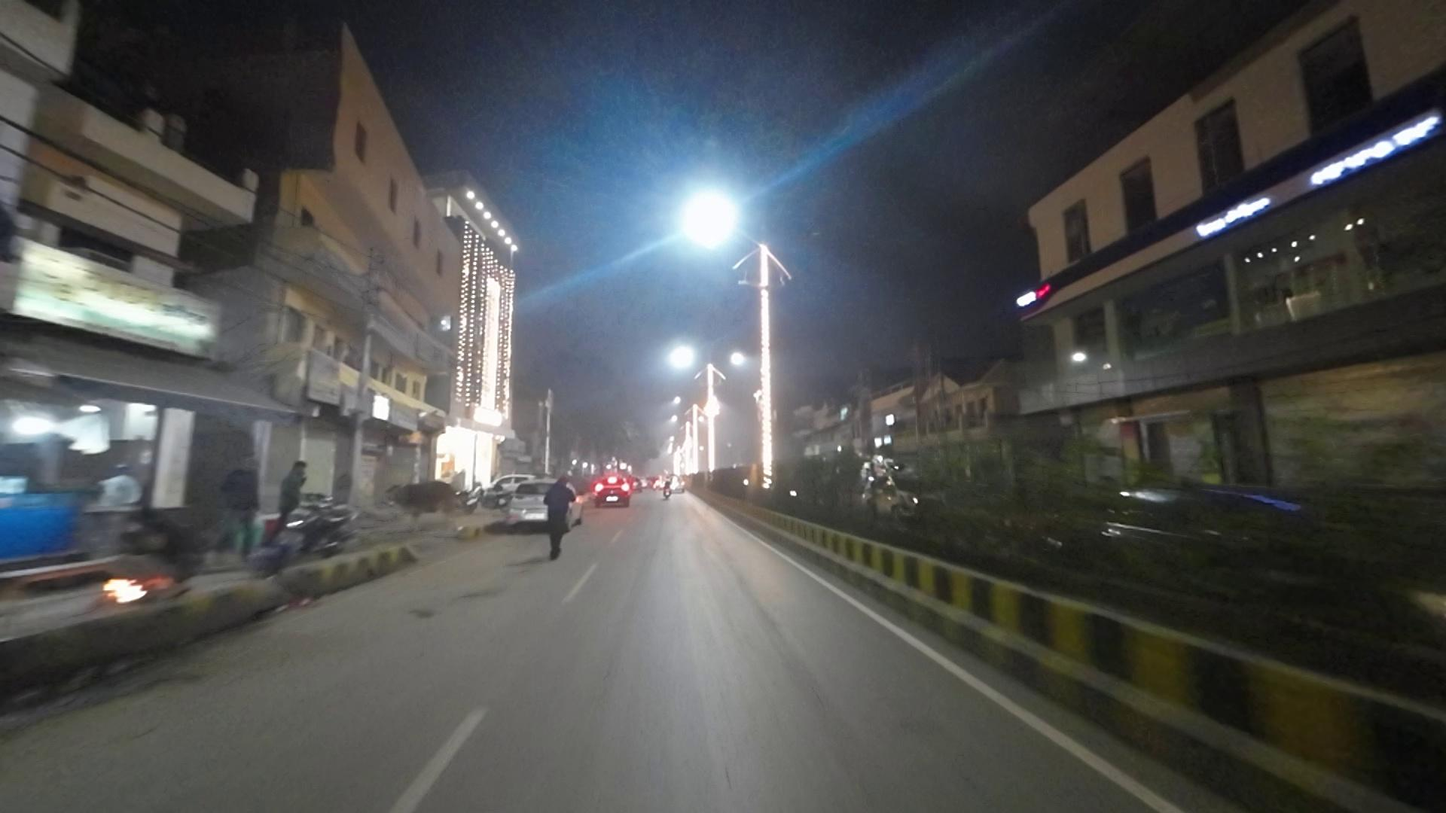streetlight: (767, 228, 822, 246)
